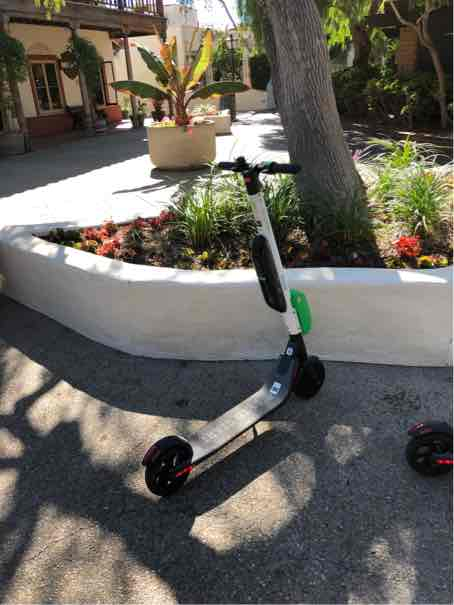scooter: (133, 146, 334, 514)
